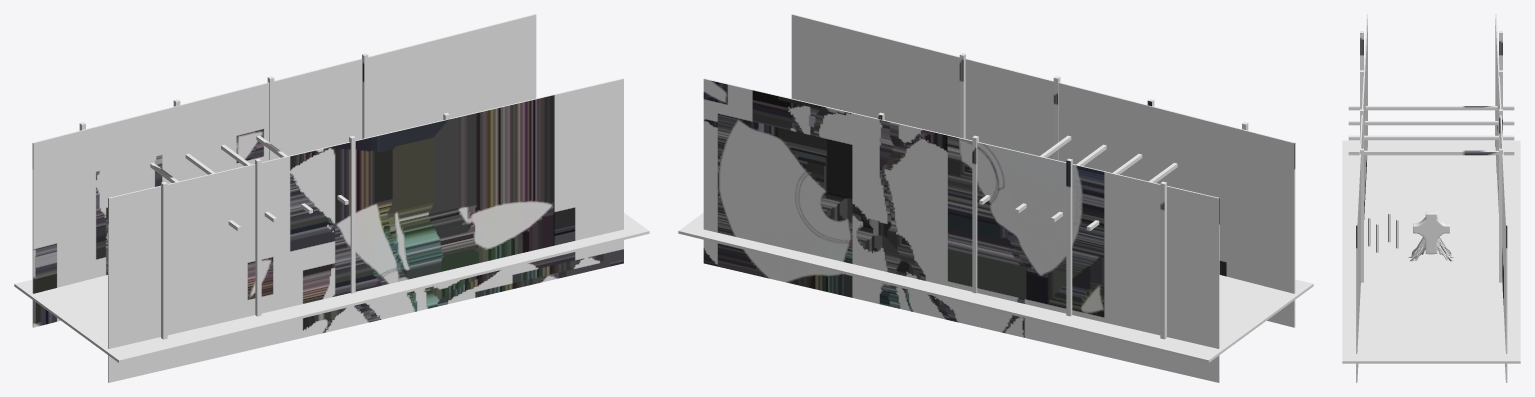
The model's file is Wall.fbx.
3 views of the same model, side by side, from view 1: azimuth 30°, elevation 25°; view 2: azimuth 150°, elevation 25°; view 3: azimuth 270°, elevation 25° (orthographic). The views are drawn at different scales.
Parts seen in each view (by area): view 1: Cube.095_Baked; view 2: Cube.095_Baked; view 3: Cube.095_Baked.
Part boxes in pixels (x1=…): Cube.095_Baked: x1=14, y1=14, x2=649, y2=382; Cube.095_Baked: x1=678, y1=14, x2=1313, y2=382; Cube.095_Baked: x1=1342, y1=14, x2=1520, y2=382.
Bounding box in the file's own units: 2889 × 984 × 987.
